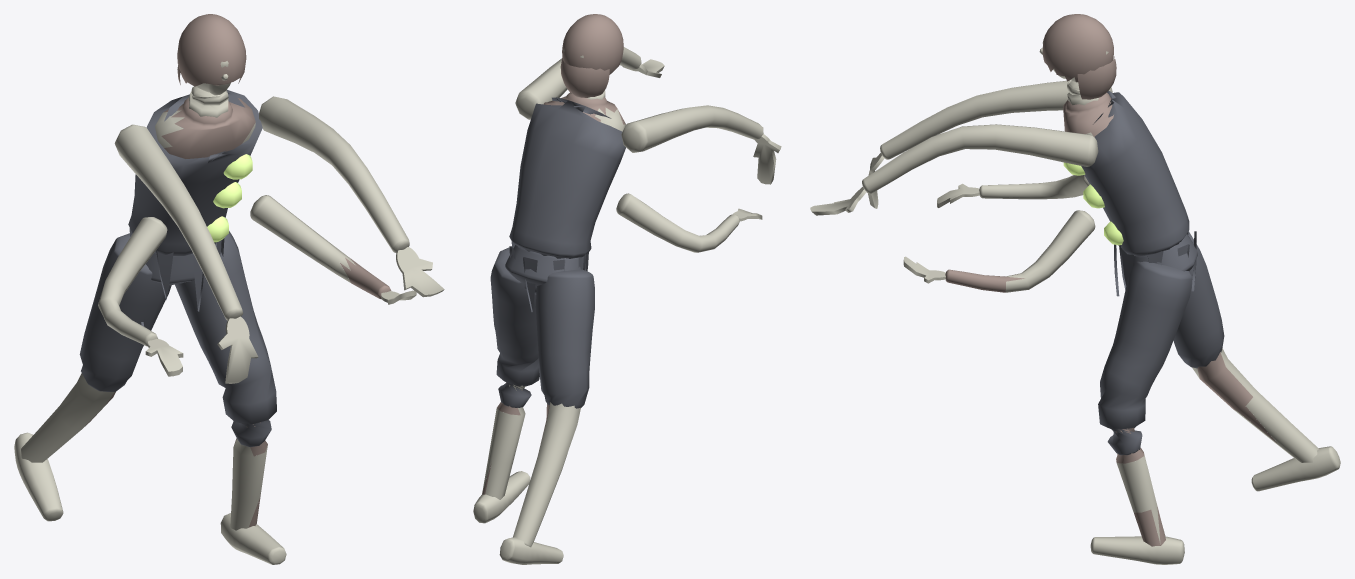
The model's file is undead-horde-and-infected-variants-multi-limbed-horror-7fdc819a__12009.glb.
The picture shows the model from 3 angles, left to right: view 1: azimuth 30°, elevation 25°; view 2: azimuth 150°, elevation 25°; view 3: azimuth 270°, elevation 25°; orthographic projection. The views are drawn at different scales.
Parts seen in each view (by area): view 1: multi-limbed-horror-boss; view 2: multi-limbed-horror-boss; view 3: multi-limbed-horror-boss.
Part boxes in pixels (box(x1,y1,x2,y2)): multi-limbed-horror-boss: box(14, 14, 444, 564); multi-limbed-horror-boss: box(473, 14, 781, 564); multi-limbed-horror-boss: box(810, 14, 1340, 564).
Bounding box in the file's own units: 0.8855 × 2 × 1.86.
